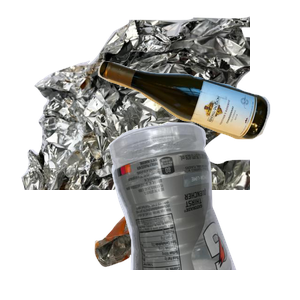glass: (95, 57, 300, 189)
metal: (19, 14, 259, 194)
plastic: (106, 120, 300, 300)
trash: (92, 174, 272, 300)
